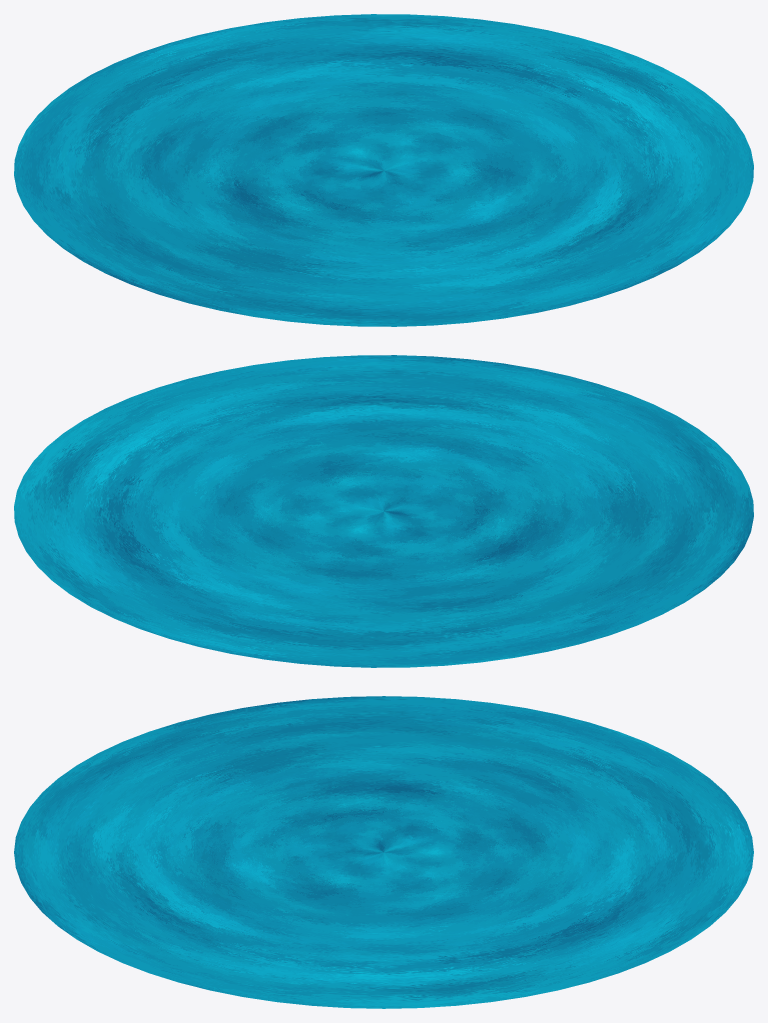
The model's file is Water_Circle_3_Highpoly.glb.
The picture shows the model from 3 angles, top to bottom: view 1: azimuth 30°, elevation 25°; view 2: azimuth 150°, elevation 25°; view 3: azimuth 270°, elevation 25°; orthographic projection.
Visible parts, largest first — view 1: Water_Circle_3_Highpoly; view 2: Water_Circle_3_Highpoly; view 3: Water_Circle_3_Highpoly.
Boxes of the visible parts, x1,y1,x2,y2 form: Water_Circle_3_Highpoly: (14,14,753,326); Water_Circle_3_Highpoly: (14,355,753,667); Water_Circle_3_Highpoly: (14,696,753,1008).
Size of the model in its own units: 4053 by 8.67e-06 by 4053.
1 material, 1 textured.
